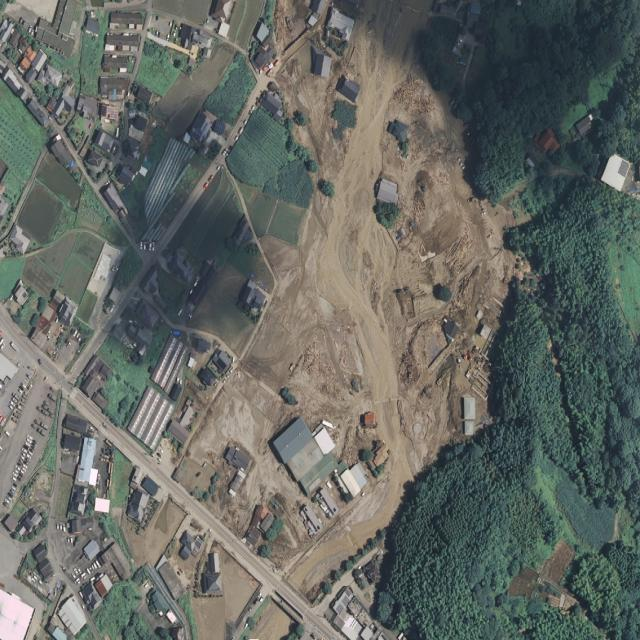landslide: (189, 1, 516, 594)
